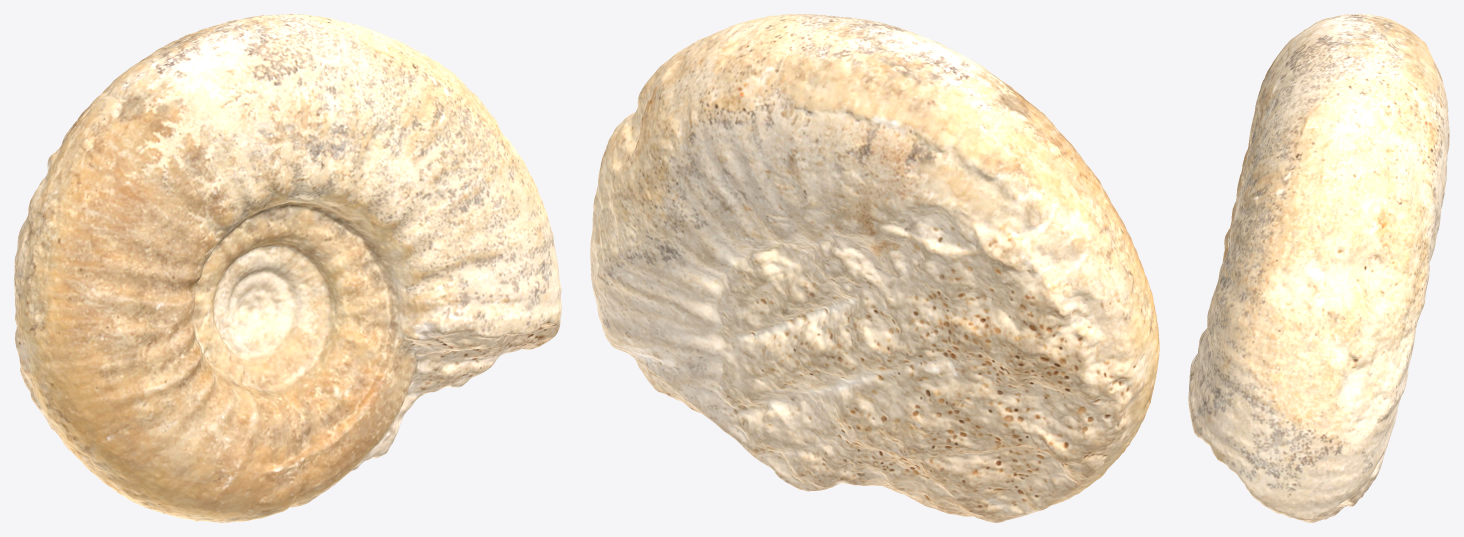
The model's file is piece-018.glb.
3 views of the same model, side by side, from view 1: azimuth 30°, elevation 25°; view 2: azimuth 150°, elevation 25°; view 3: azimuth 270°, elevation 25° (orthographic). The views are drawn at different scales.
Visible parts, largest first — view 1: Object_2, Object_3, Object_5, Object_4; view 2: Object_4, Object_3, Object_2, Object_5; view 3: Object_2, Object_5, Object_3, Object_4.
Part boxes in pixels (<box>): Object_2: <box>15,14,561,522</box>; Object_3: <box>14,21,561,520</box>; Object_5: <box>24,14,380,522</box>; Object_4: <box>15,15,401,497</box>; Object_4: <box>590,30,1151,521</box>; Object_3: <box>590,56,1151,522</box>; Object_2: <box>594,14,1159,438</box>; Object_5: <box>592,23,1159,477</box>; Object_2: <box>1192,14,1415,519</box>; Object_5: <box>1223,56,1447,419</box>; Object_3: <box>1188,21,1436,522</box>; Object_4: <box>1277,15,1449,522</box>.
Bounding box in the file's own units: 0.3531 × 0.2961 × 0.1572.
Materials: 1 (1 with a texture image).
